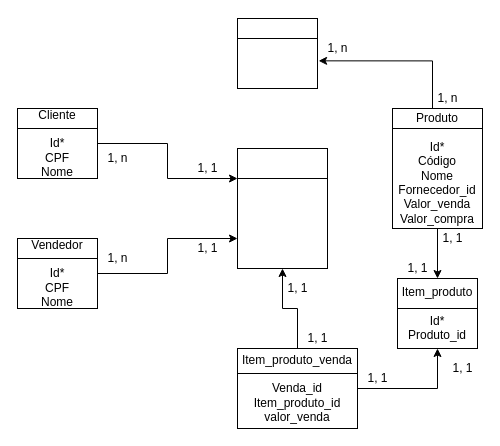
Image size: 500x446. Some labels were removed from this diagram. Each missing label, with the centre of its shape:
Fornecedor Id* CPF Nome: point 277,53
Venda Id* Cliente_id Vendedor_id Data Desconto Imposto: point 282,208
